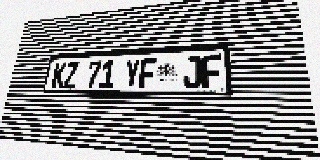1: (99, 60, 116, 88)
7: (85, 61, 102, 88)
F: (202, 55, 222, 88), (139, 58, 156, 88)
J: (183, 56, 201, 88)
K: (51, 62, 67, 88)
Y: (123, 59, 141, 88)
Z: (63, 62, 79, 88)
